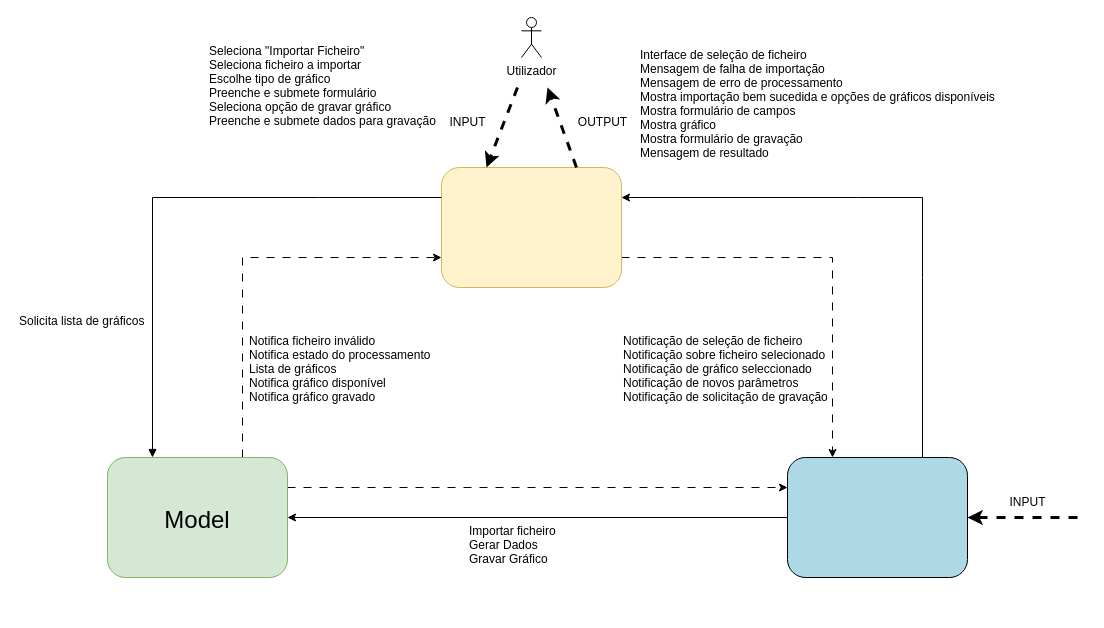
This 1104x628 diagram has some shape labels left out. The shapes that lost their labels are listed below. From the top down, each one's box as (x1, y1, x2, y2) in pixels, then its label:
(440, 166, 622, 288): Views
(786, 456, 968, 578): Controller
